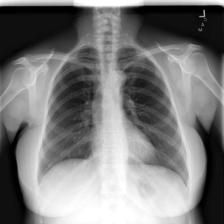normal: (34, 42, 191, 189)
